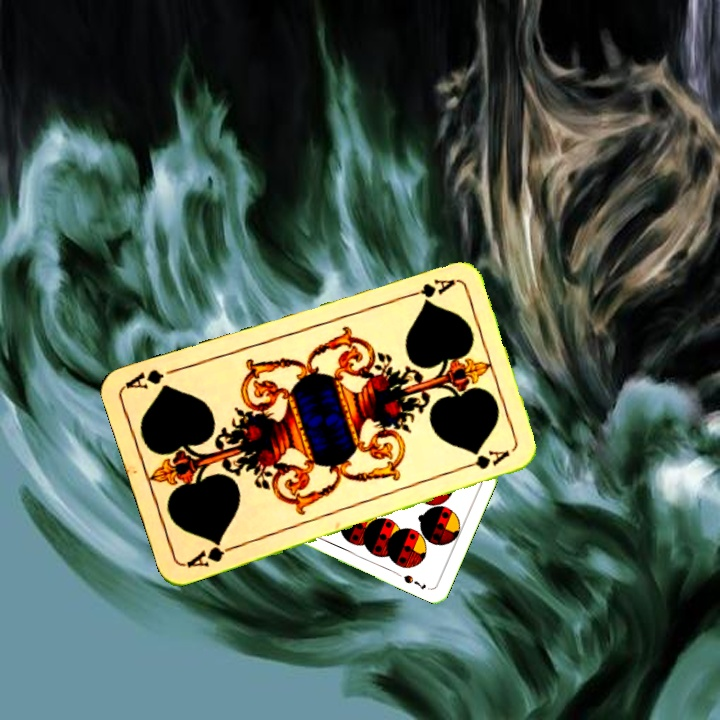GA: (182, 536, 239, 571), (399, 275, 458, 302)
